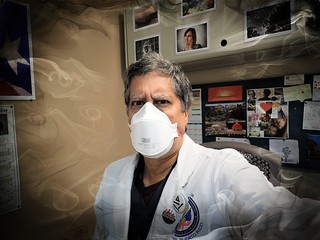n95: (123, 101, 180, 160)
